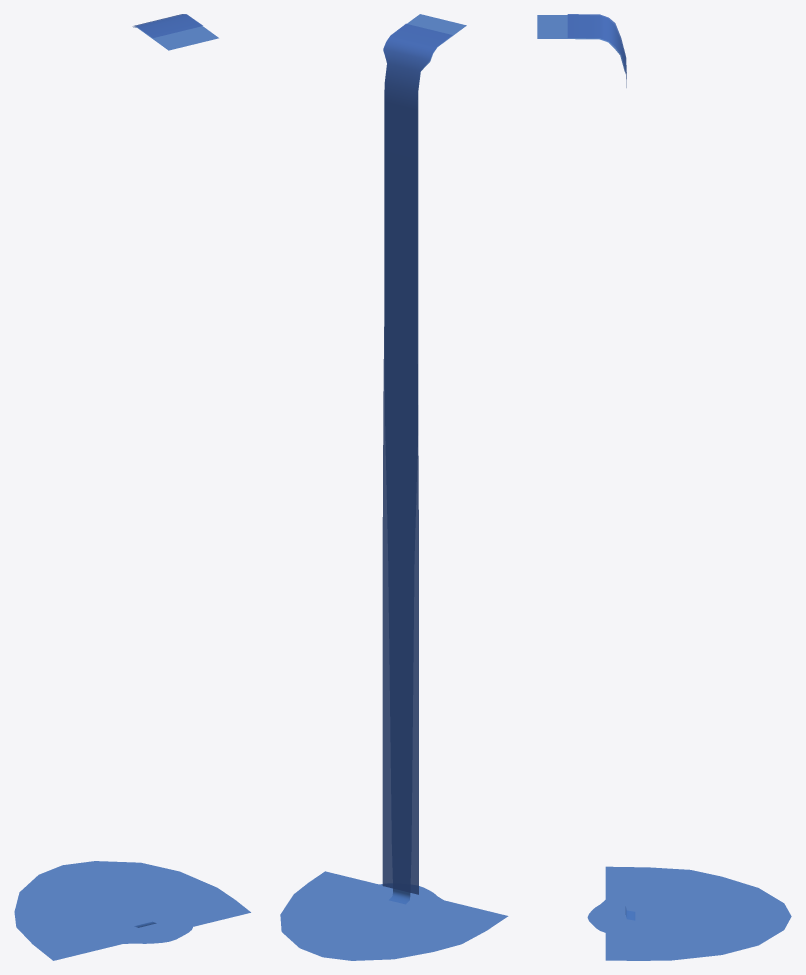
File: t3_road_t_junction_b_water.glb
3 renders of one model, left to right at view 1: azimuth 30°, elevation 25°; view 2: azimuth 150°, elevation 25°; view 3: azimuth 270°, elevation 25°, orthographic. The views are drawn at different scales.
Visible parts, largest first — view 1: water_river19, water_river20, water_fall12; view 2: water_fall12, water_river19, water_river20; view 3: water_river19, water_fall12, water_river20.
Part boxes in pixels (x1=…): water_river19: x1=14, y1=861, x2=250, y2=960; water_river20: x1=133, y1=26, x2=218, y2=927; water_fall12: x1=132, y1=14, x2=202, y2=37; water_fall12: x1=382, y1=23, x2=452, y2=894; water_river19: x1=280, y1=871, x2=508, y2=960; water_river20: x1=383, y1=14, x2=466, y2=904; water_river19: x1=587, y1=866, x2=791, y2=960; water_fall12: x1=567, y1=14, x2=626, y2=87; water_river20: x1=537, y1=15, x2=635, y2=920.
Size of what is drawn, in the model's own units: 2.46 by 10.84 by 2.8.
